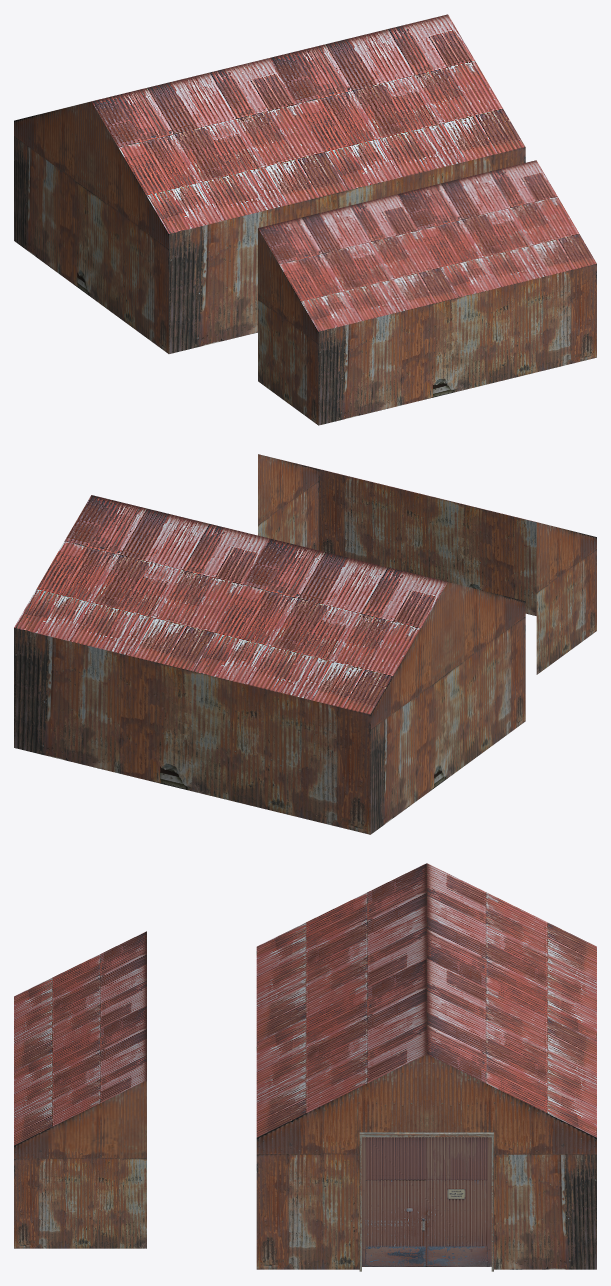
Rendered from Hangar_v1.FBX.
The picture shows the model from 3 angles, top to bottom: view 1: azimuth 30°, elevation 25°; view 2: azimuth 150°, elevation 25°; view 3: azimuth 270°, elevation 25°; orthographic projection. The views are drawn at different scales.
Visible parts, largest first — view 1: Hangar_v1_full, Hangar_v1_half; view 2: Hangar_v1_full, Hangar_v1_half; view 3: Hangar_v1_full, Hangar_v1_half.
Part boxes in pixels (x1=…): Hangar_v1_full: x1=14, y1=14, x2=525, y2=353; Hangar_v1_half: x1=258, y1=160, x2=596, y2=425; Hangar_v1_full: x1=14, y1=495, x2=525, y2=834; Hangar_v1_half: x1=258, y1=454, x2=596, y2=674; Hangar_v1_full: x1=256, y1=863, x2=596, y2=1271; Hangar_v1_half: x1=14, y1=931, x2=146, y2=1248.
Bounding box in the file's own units: 9.67 × 5.03 × 12.33.
